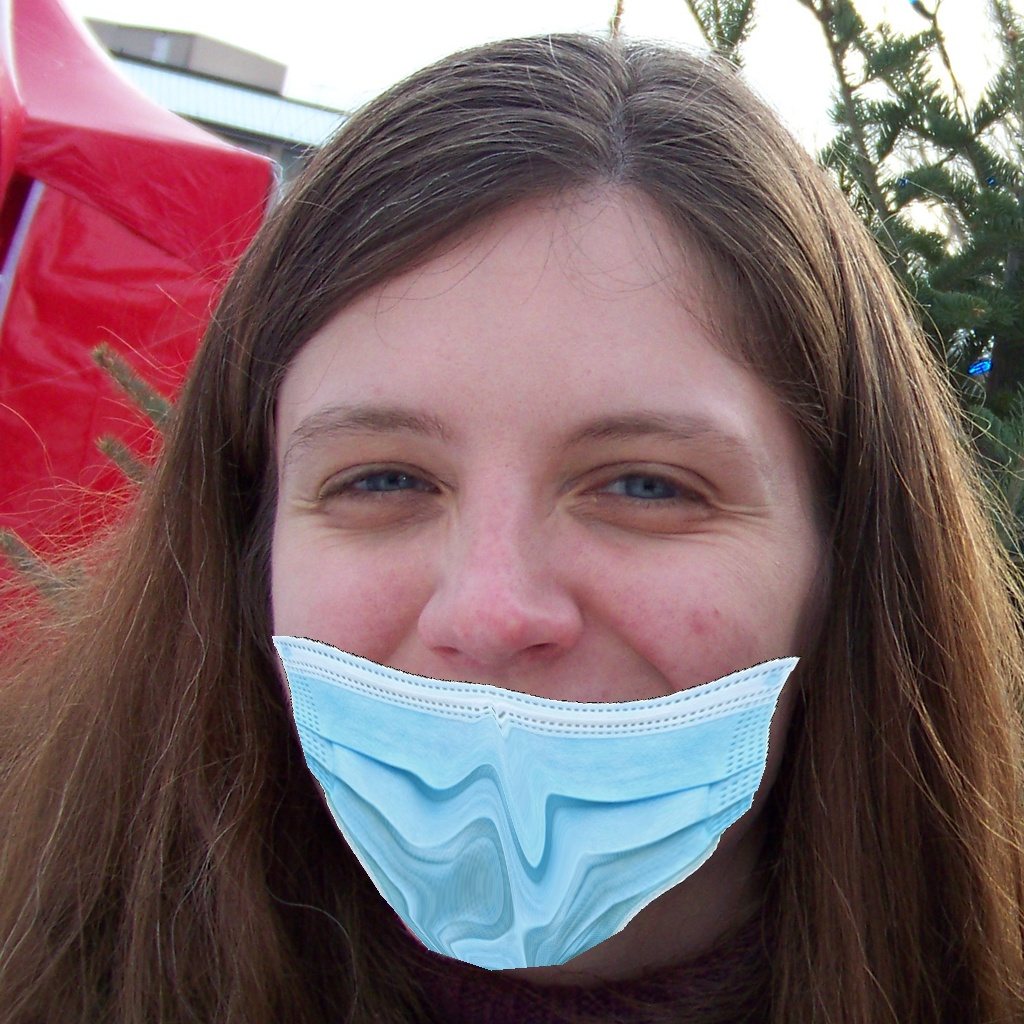mascarilla_mal_puesta: (257, 345, 832, 963)
